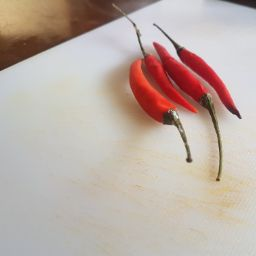Cayenne pepper: (107, 4, 245, 182), (111, 4, 236, 147)
